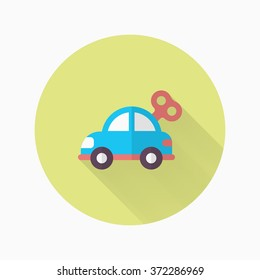car: (76, 106, 179, 170)
